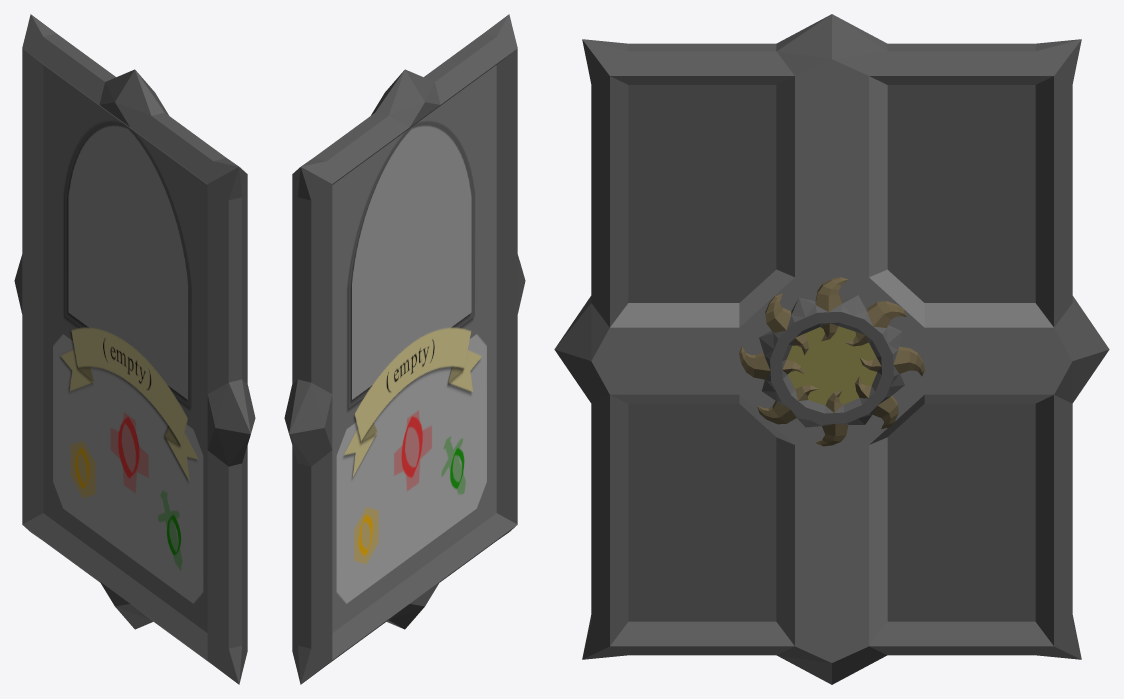
File: card.glb
3 views of the same model, side by side, from view 1: azimuth 30°, elevation 25°; view 2: azimuth 150°, elevation 25°; view 3: azimuth 270°, elevation 25° (orthographic). The views are drawn at different scales.
Visible parts, largest first — view 1: base; view 2: base; view 3: base, emblem.
Boxes of the visible parts, bbox=[...] form: base: bbox=[14, 14, 255, 684]; base: bbox=[284, 14, 525, 684]; base: bbox=[554, 14, 1109, 684]; emblem: bbox=[739, 277, 924, 446].
Size of the model in its own units: 0.505 by 5.21 by 3.91.
Materials: 6 (1 with a texture image).
